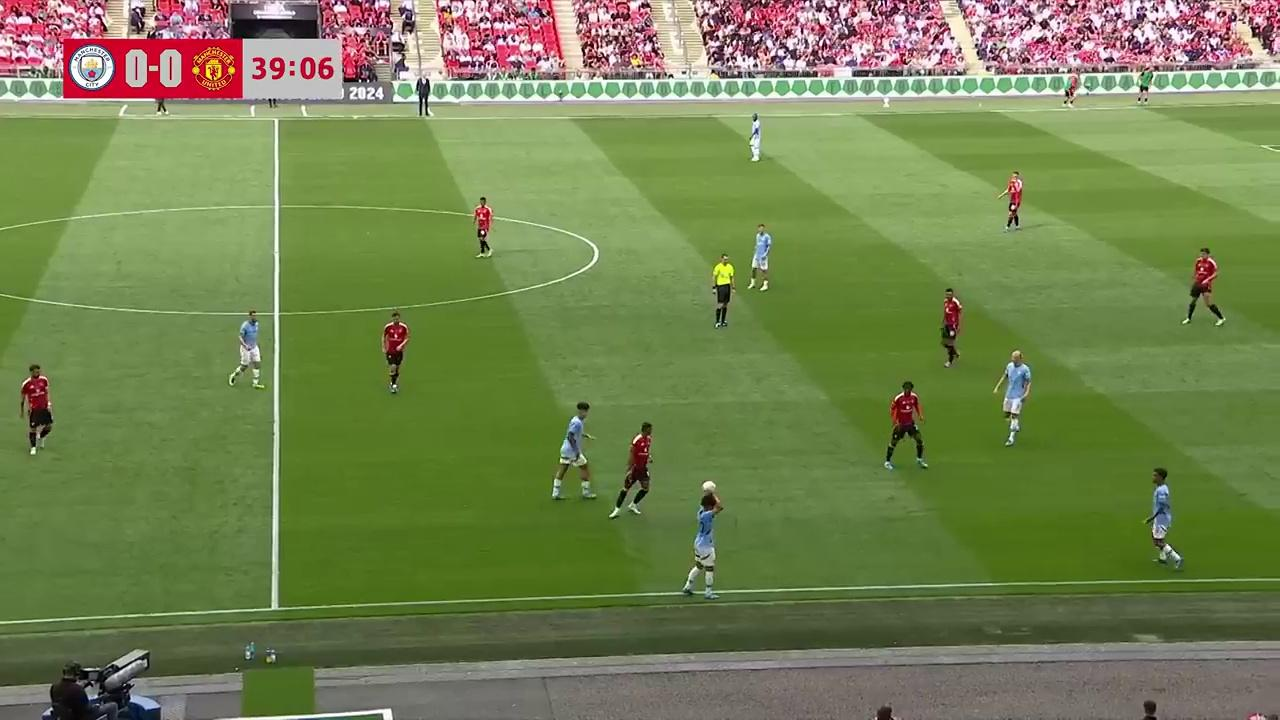ball: (699, 474, 718, 497)
player: (681, 479, 724, 597), (607, 424, 653, 519), (550, 401, 594, 500), (883, 380, 929, 471), (1143, 467, 1183, 567), (992, 349, 1031, 446), (1182, 246, 1226, 326), (20, 363, 53, 455), (228, 309, 264, 389), (381, 309, 409, 395), (940, 287, 963, 367), (747, 223, 771, 291), (998, 169, 1023, 231), (472, 196, 493, 257), (749, 113, 761, 161)
referee: (711, 253, 735, 328)
